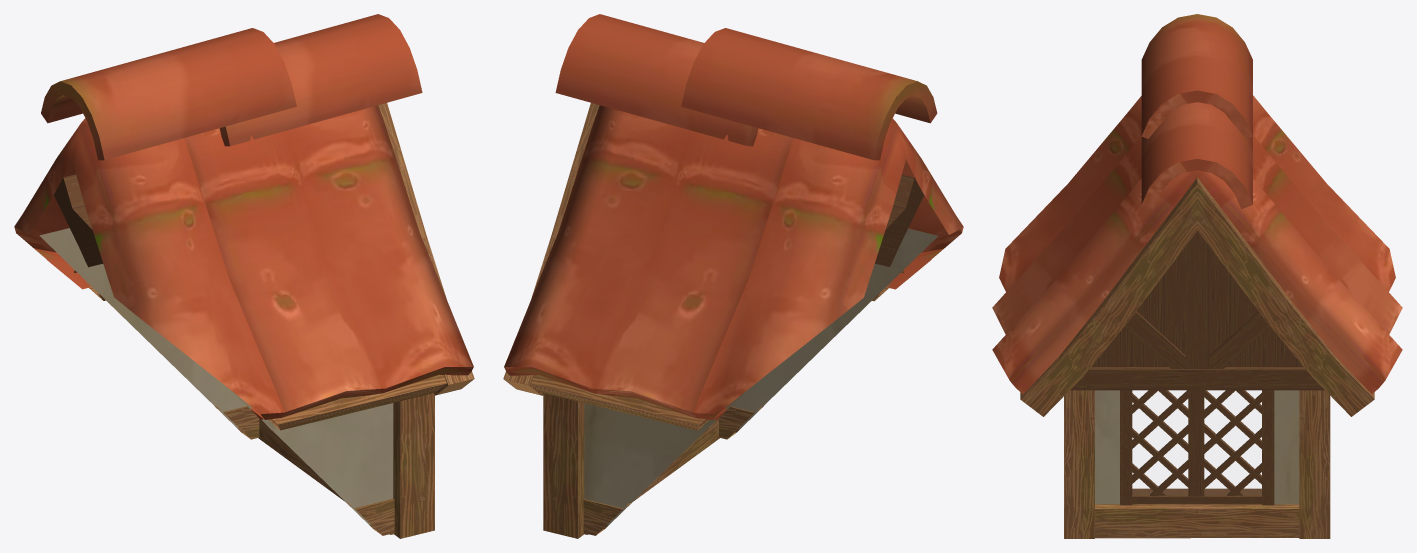
The model's file is mv_dormer.glb.
3 views of the same model, side by side, from view 1: azimuth 30°, elevation 25°; view 2: azimuth 150°, elevation 25°; view 3: azimuth 270°, elevation 25° (orthographic). The views are drawn at different scales.
Parts seen in each view (by area): view 1: Roof_Dormer_RoundTile; view 2: Roof_Dormer_RoundTile; view 3: Roof_Dormer_RoundTile.
Boxes of the visible parts, left/top/right/bottom form: Roof_Dormer_RoundTile: left=14, top=14, right=474, bottom=538; Roof_Dormer_RoundTile: left=503, top=14, right=963, bottom=538; Roof_Dormer_RoundTile: left=992, top=14, right=1402, bottom=538.
Size of the model in its own units: 1.97 by 2.67 by 2.44.
4 materials, 3 textured.
